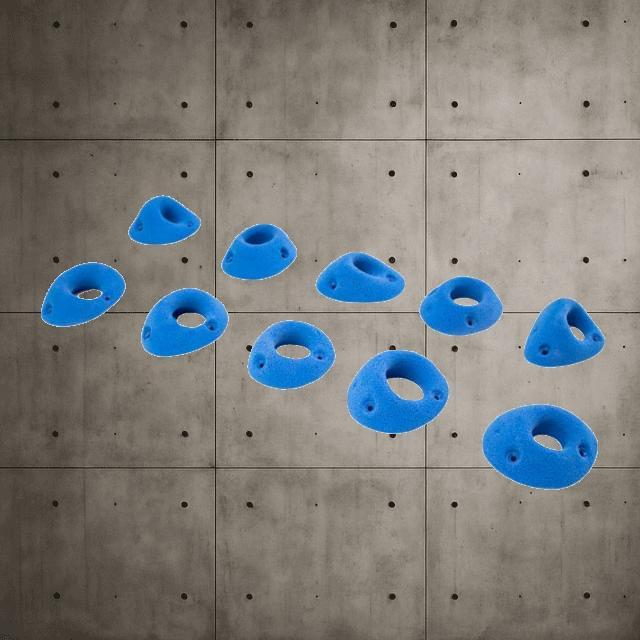Pocket: (482, 402, 598, 490), (346, 348, 448, 434), (140, 287, 228, 357), (247, 320, 335, 388), (524, 296, 604, 368), (40, 262, 124, 326), (419, 274, 503, 336), (316, 250, 404, 302), (221, 222, 297, 280), (127, 193, 200, 244)
